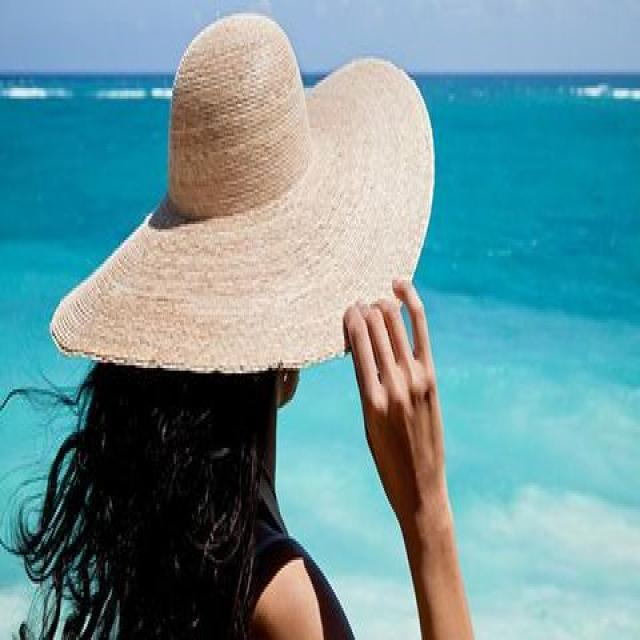hat: (49, 21, 435, 422)
